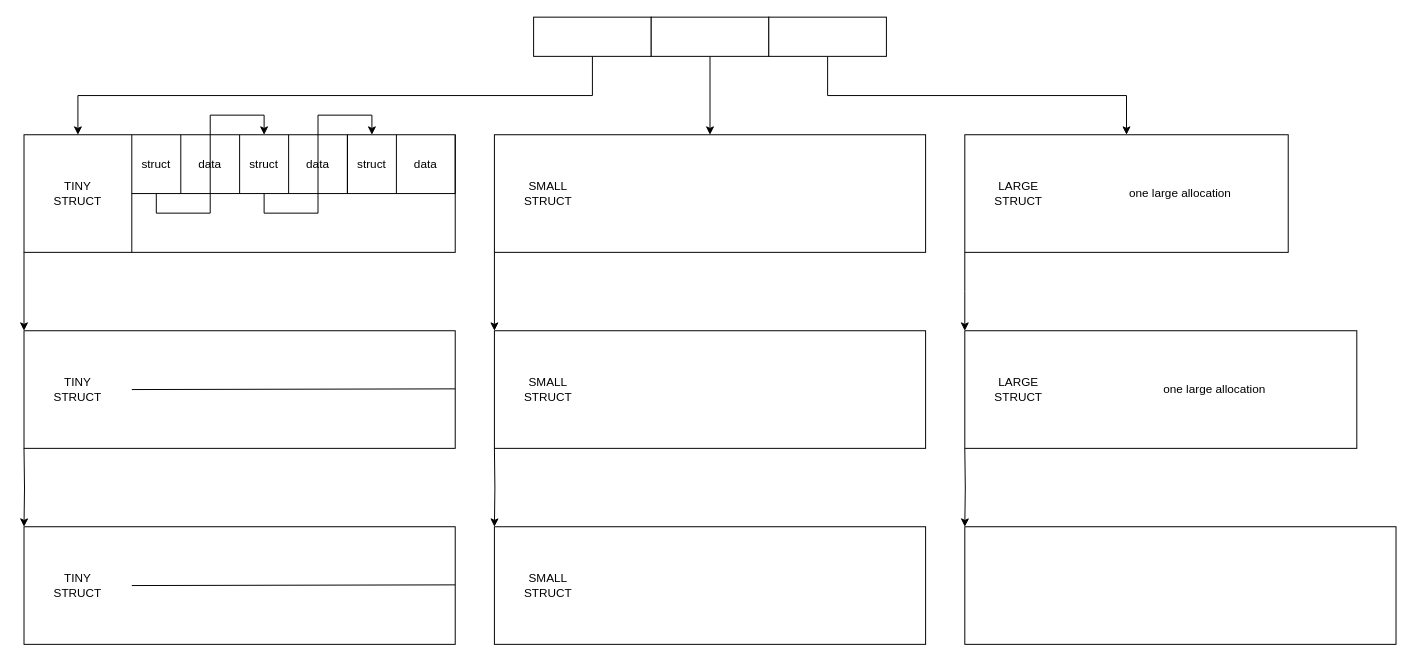
The diagram is 1414 pixels wide and 662 high, and some of its shapes have lost their labels. Each missing label, with the centre of its shape:
"struct *large" belongs at (x=827, y=36).
"struct *small" belongs at (x=709, y=36).
"struct *tiny" belongs at (x=592, y=36).
